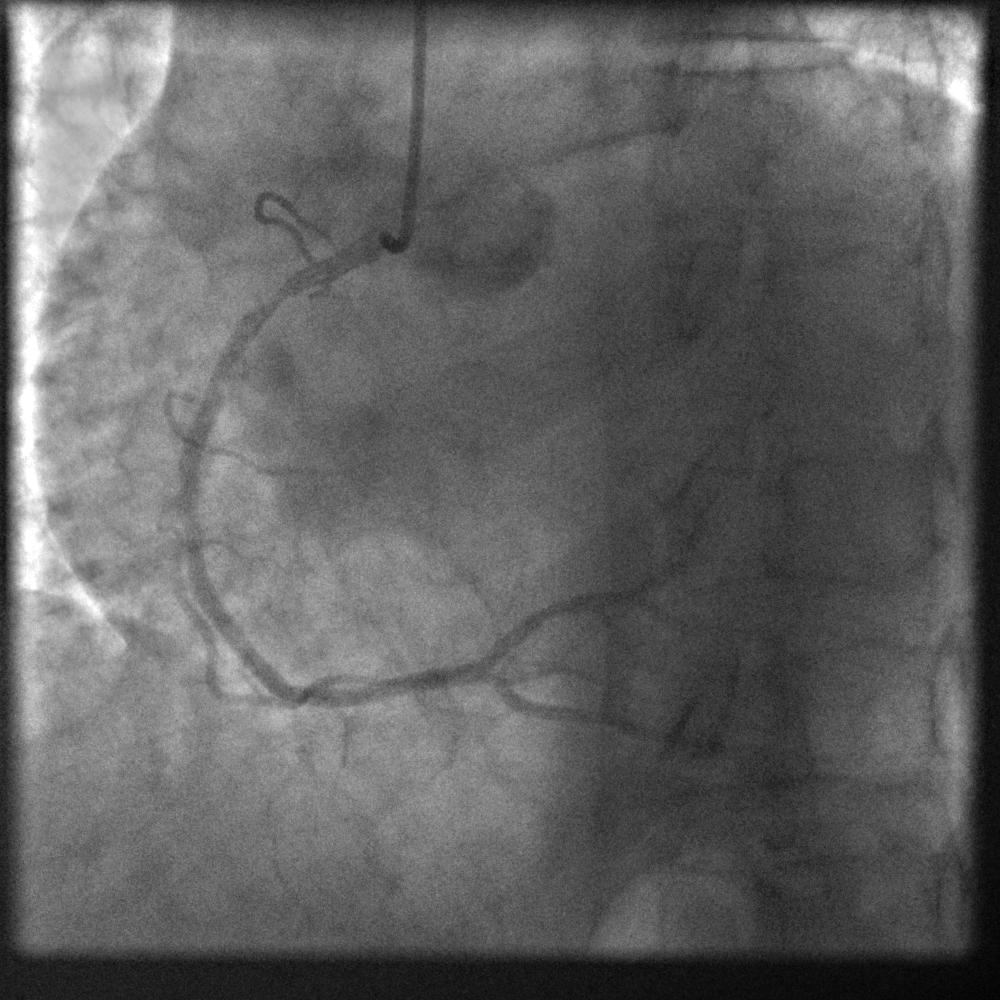Stenosis: (243, 276, 298, 315)
